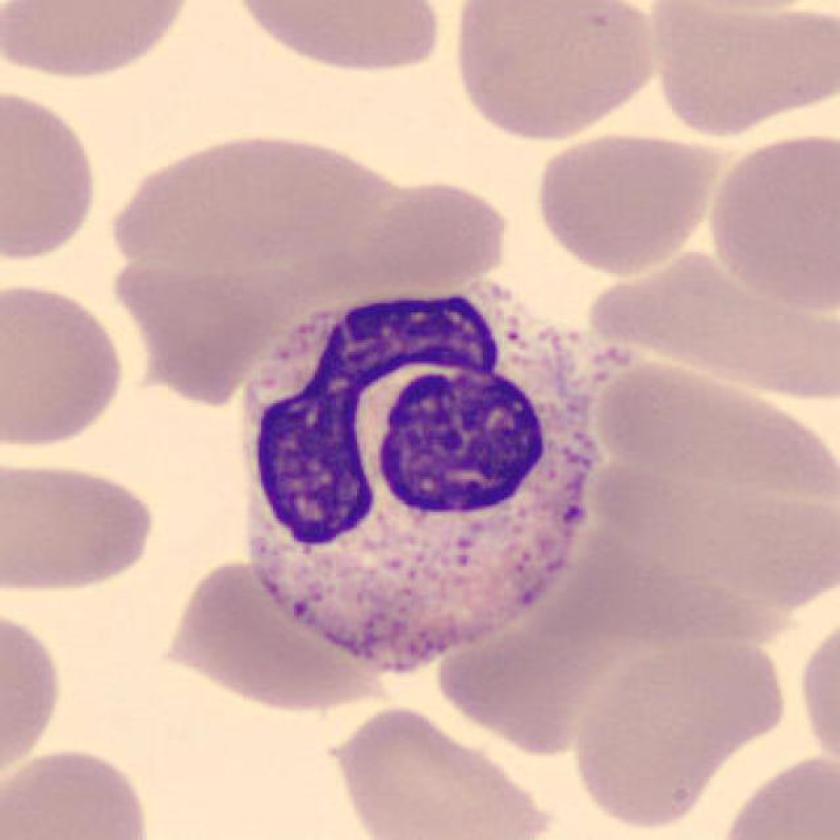neutrophil: (235, 282, 604, 668)
